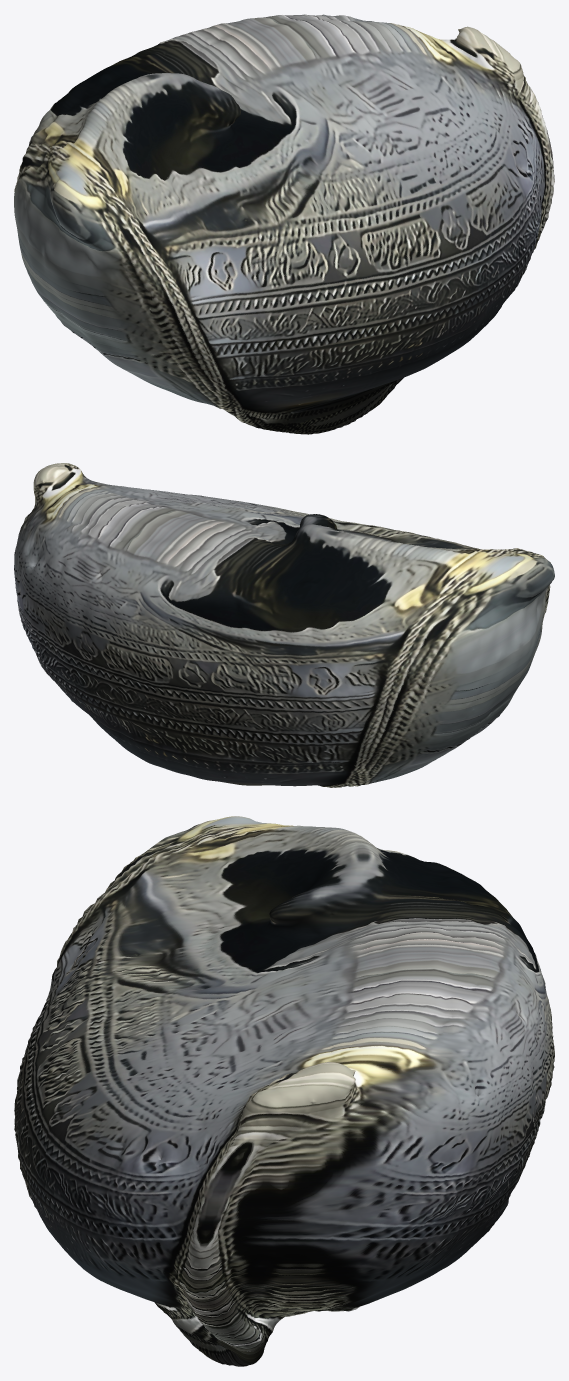
The model's file is kfl-2167.glb.
3 renders of one model, top to bottom at view 1: azimuth 30°, elevation 25°; view 2: azimuth 150°, elevation 25°; view 3: azimuth 270°, elevation 25°, orthographic. The views are drawn at different scales.
Parts seen in each view (by area): view 1: kfl-2167; view 2: kfl-2167; view 3: kfl-2167.
Boxes of the visible parts, x1,y1,x2,y2 form: kfl-2167: [14, 14, 554, 434]; kfl-2167: [14, 463, 554, 787]; kfl-2167: [14, 816, 554, 1366].
Bounding box in the file's own units: 0.9918 × 0.6365 × 0.7615.
Materials: 1 (1 with a texture image).
